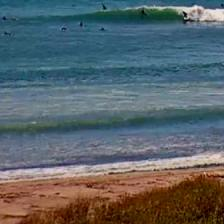surfer: (182, 10, 188, 19), (3, 30, 12, 36), (140, 9, 148, 15), (102, 4, 108, 11), (2, 15, 8, 21), (10, 18, 19, 22), (100, 27, 107, 32), (60, 26, 67, 31), (78, 22, 84, 27), (220, 3, 223, 7)
